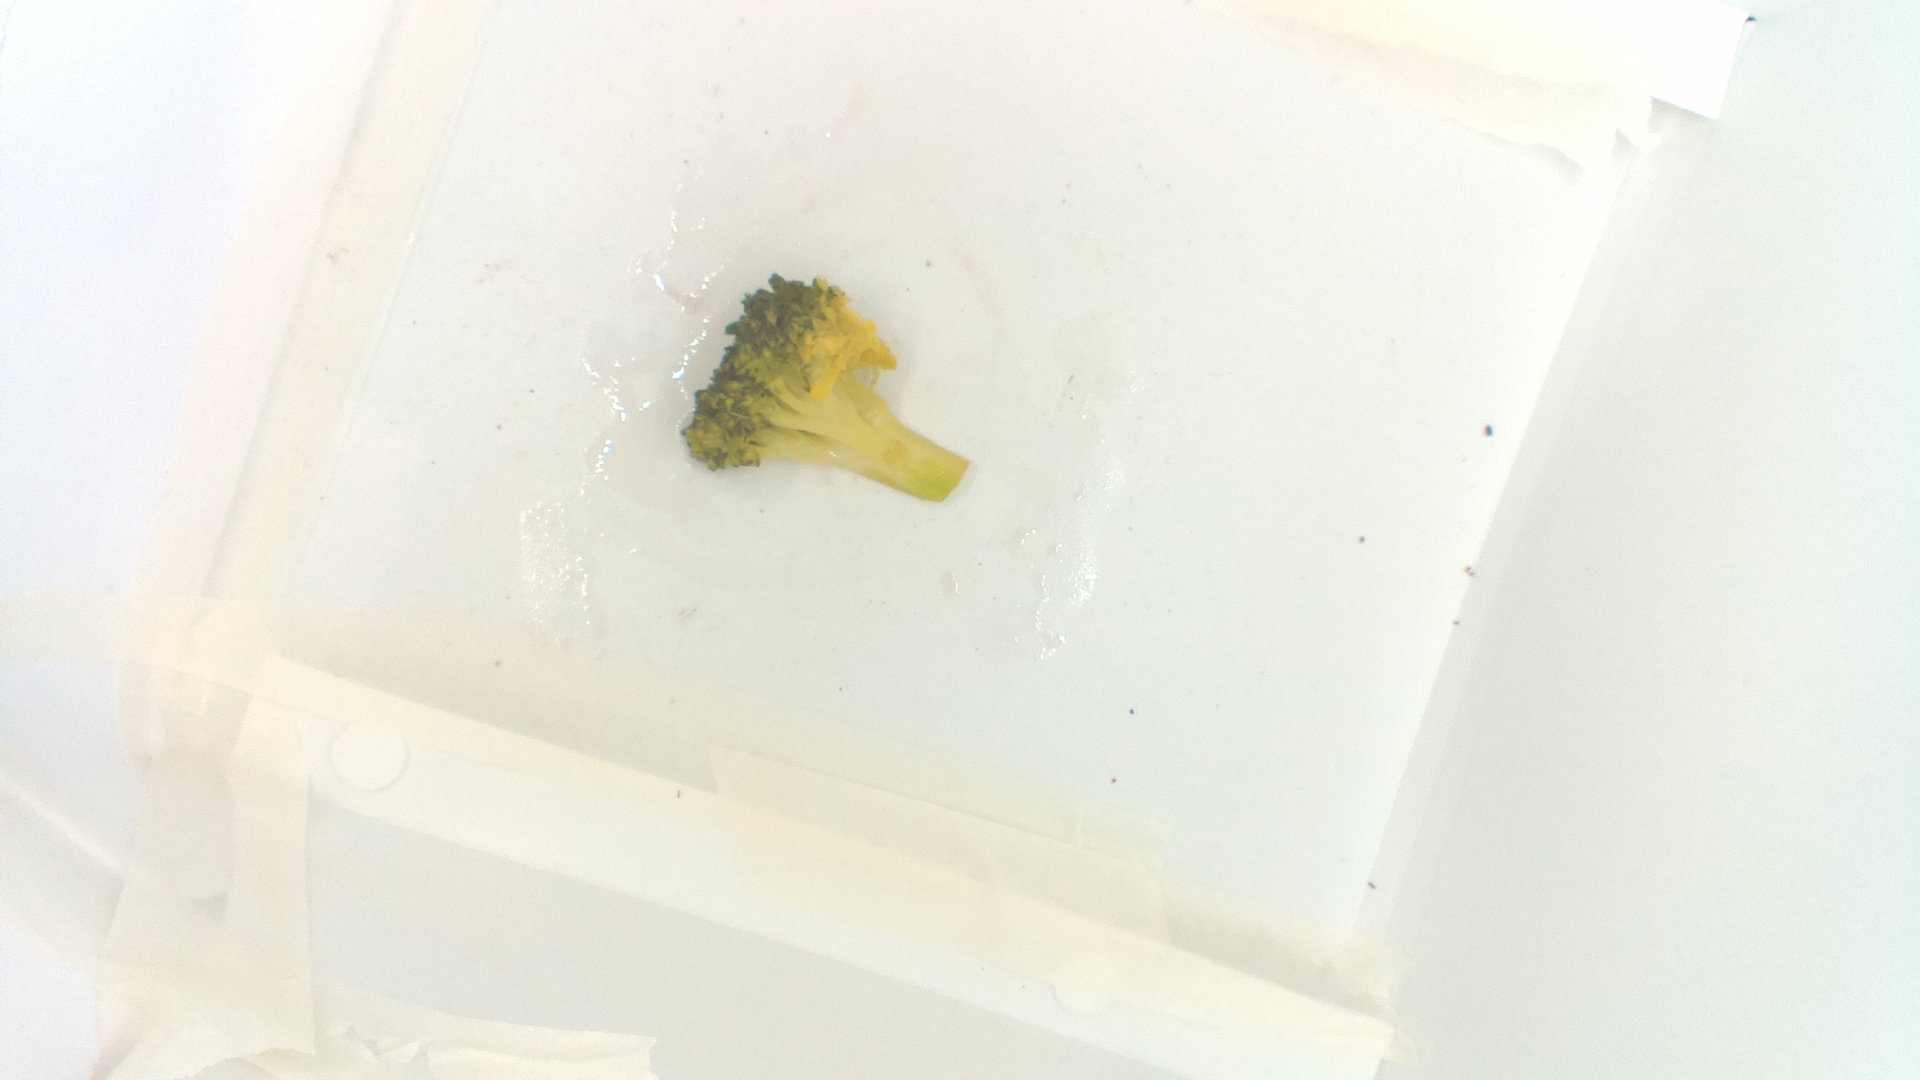vegetable: (684, 269, 975, 512)
